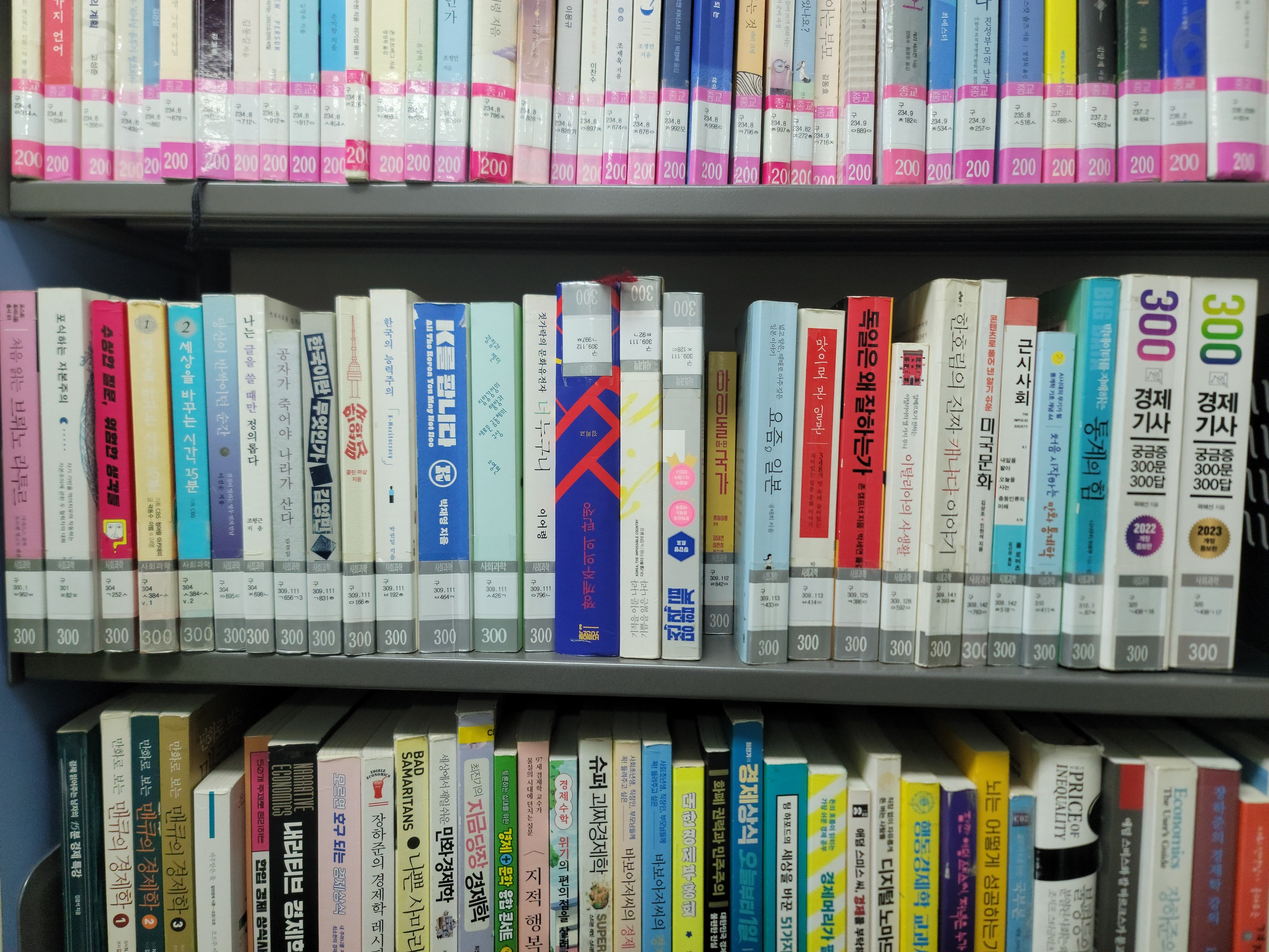book-spine: (1168, 279, 1259, 673), (1104, 276, 1191, 673), (556, 283, 618, 658), (922, 280, 980, 668), (831, 297, 892, 660), (36, 288, 94, 654), (1066, 280, 1120, 669), (412, 304, 472, 654), (786, 309, 844, 659), (744, 301, 798, 664), (958, 282, 1007, 666), (987, 298, 1038, 666), (1023, 332, 1076, 668), (470, 302, 520, 657), (126, 300, 176, 654), (0, 291, 47, 655), (369, 289, 415, 654), (166, 305, 214, 651), (878, 343, 930, 662), (89, 301, 136, 651), (200, 297, 245, 653), (620, 281, 660, 660), (662, 294, 703, 659), (233, 294, 274, 656), (299, 311, 342, 654), (335, 298, 376, 657), (265, 331, 308, 653), (523, 294, 556, 658), (703, 351, 738, 661)
